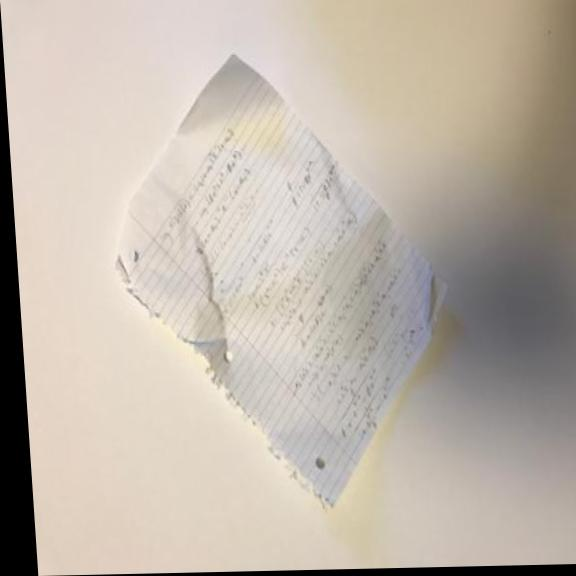Kertas: (92, 38, 468, 532)
